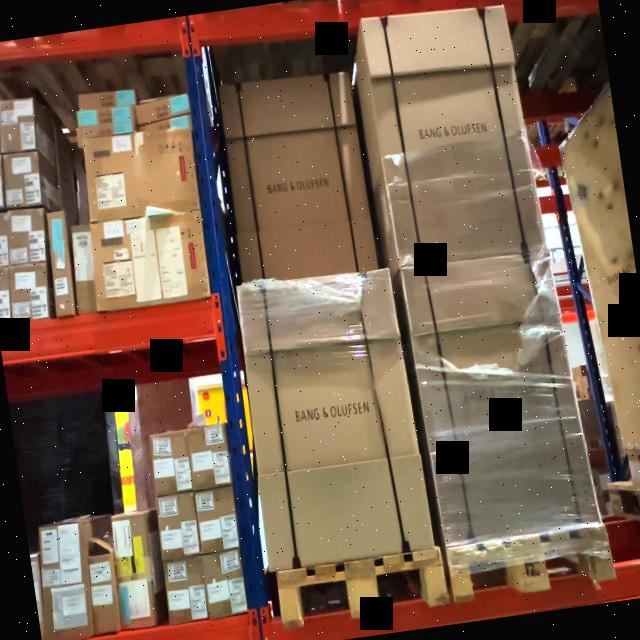box: (242, 268, 428, 572), (405, 258, 589, 534), (367, 3, 546, 270), (223, 72, 381, 286)
